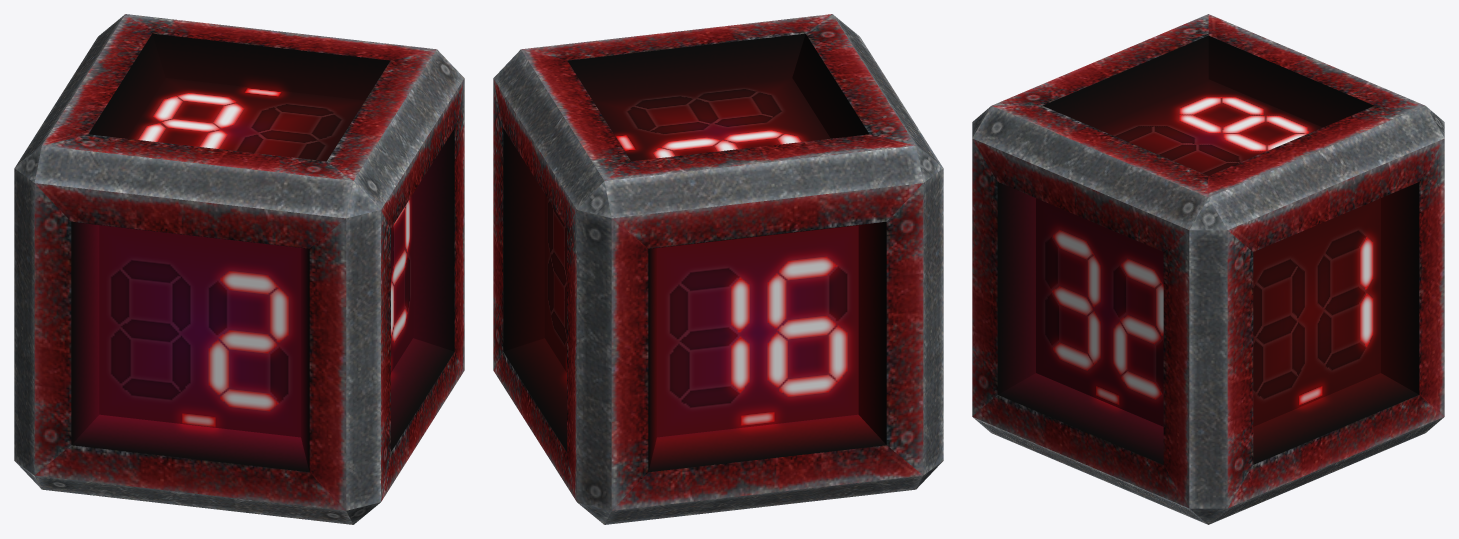
The model's file is SpaceCube01.FBX.
3 renders of one model, left to right at view 1: azimuth 30°, elevation 25°; view 2: azimuth 150°, elevation 25°; view 3: azimuth 270°, elevation 25°, orthographic. The views are drawn at different scales.
Visible parts, largest first — view 1: SpaceCube01; view 2: SpaceCube01; view 3: SpaceCube01.
Part boxes in pixels (x1,y1,x2,y2): SpaceCube01: (14,14,464,524); SpaceCube01: (493,14,943,524); SpaceCube01: (972,14,1444,524).
Size of the model in its own units: 26.16 by 20 by 26.16.
